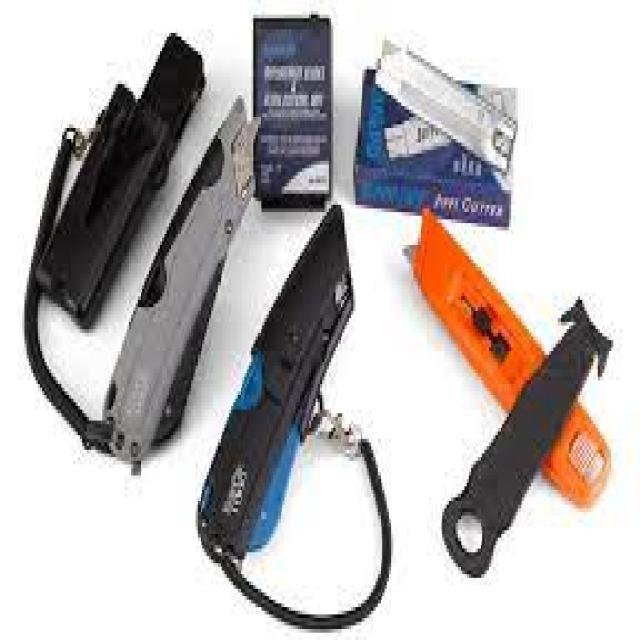estilete: (85, 99, 256, 474)
